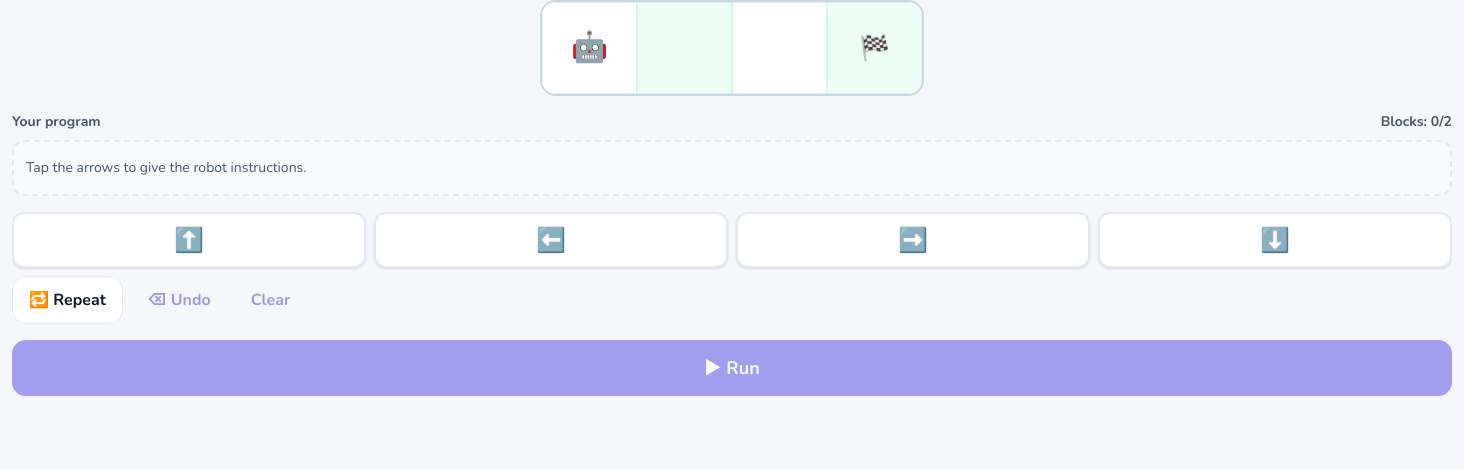
robot path › shows where it bumped
The width and height of the screenshot is (1464, 470).
Click the button named "Move left" at (551, 240), box [374,212,728,268]
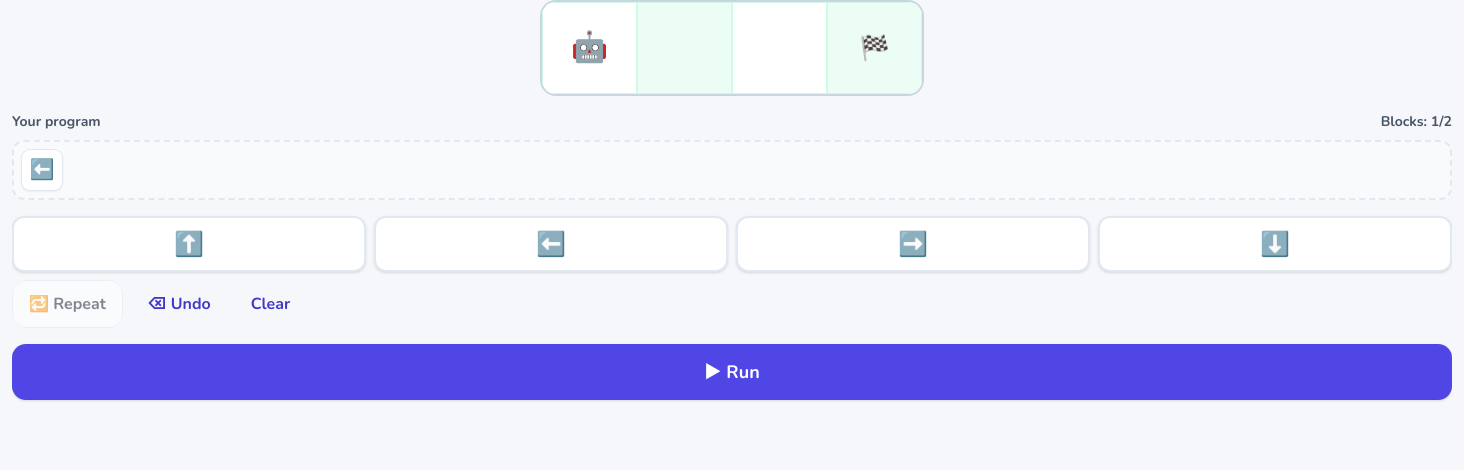
Click the button "▶ Run" at (732, 372), box [12,344,1452,400]
Wait 1000 ms
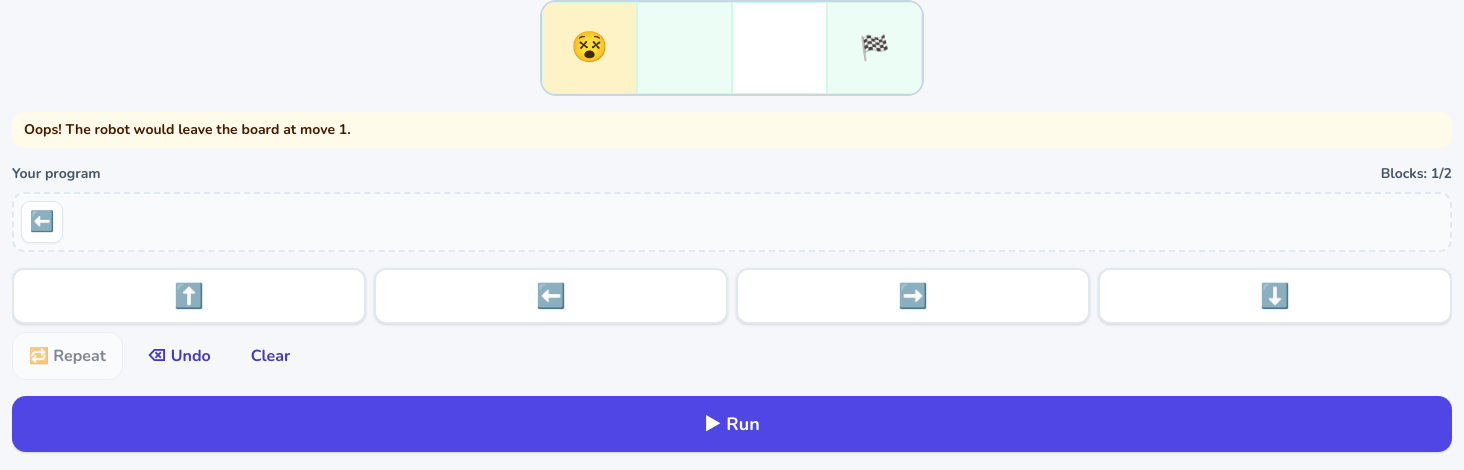
Check: the text "Oops! The robot would leave the board at move 1." is shown, box [12,112,1452,148]
